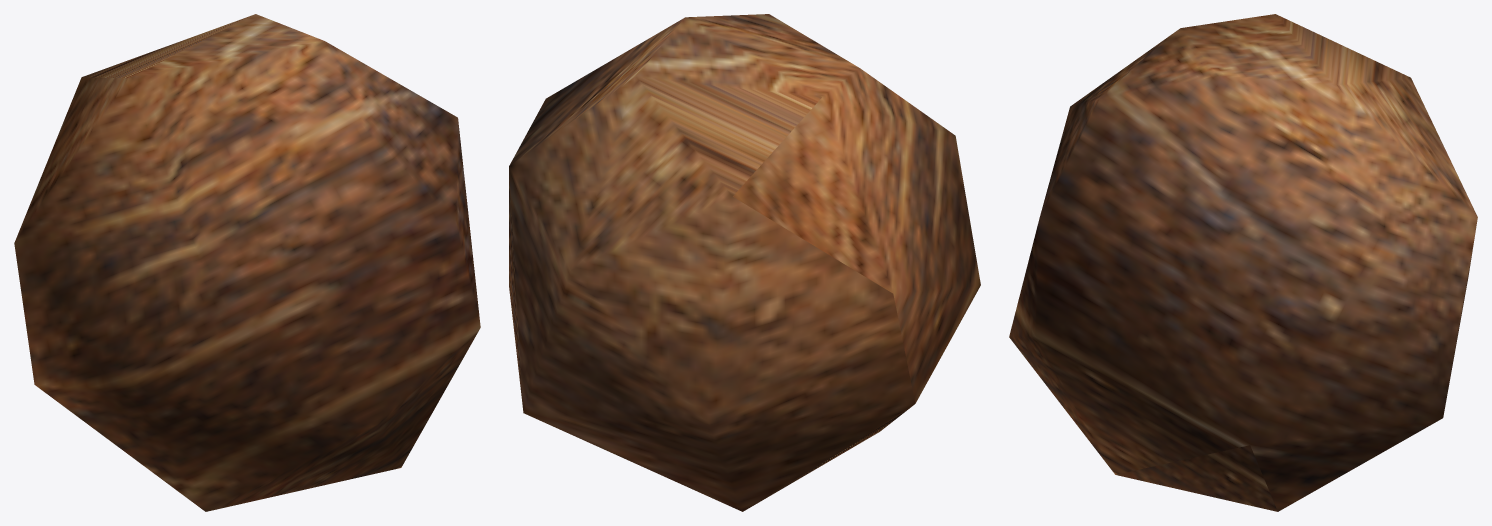
Rendered from cocos.fbx.
The picture shows the model from 3 angles, left to right: view 1: azimuth 30°, elevation 25°; view 2: azimuth 150°, elevation 25°; view 3: azimuth 270°, elevation 25°; orthographic projection.
Parts seen in each view (by area): view 1: Sphere; view 2: Sphere; view 3: Sphere.
Boxes of the visible parts, <box> form: Sphere: <box>14,14,480,511</box>; Sphere: <box>509,14,980,511</box>; Sphere: <box>1009,14,1477,511</box>.
Bounding box in the file's own units: 200 × 202 × 197.
1 material, 1 textured.
